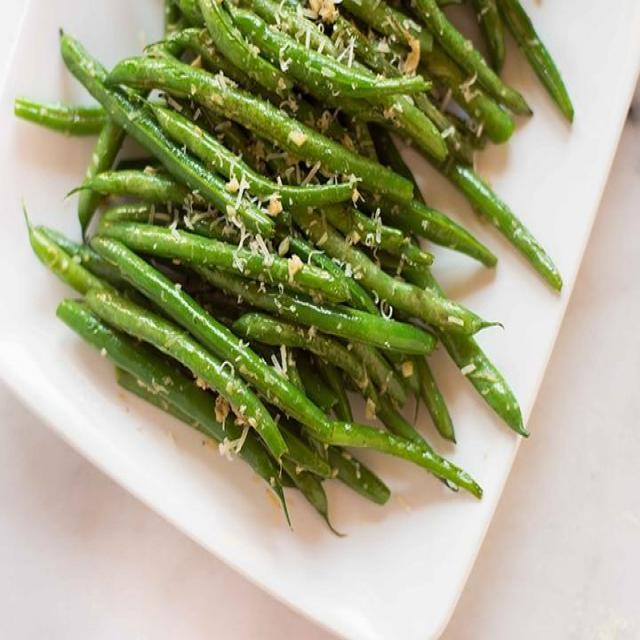Beans: (24, 0, 600, 540)
